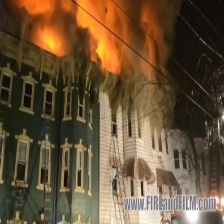fire: (40, 32, 62, 53)
smoke: (114, 3, 173, 58)
